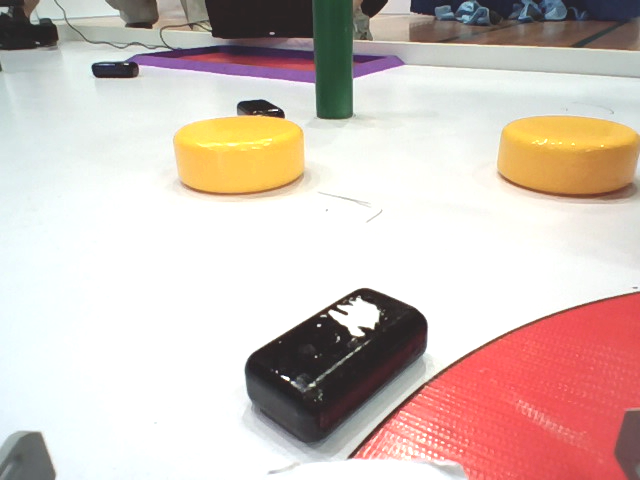black: (214, 275, 454, 435), (223, 89, 294, 139), (78, 58, 141, 92)
kuang: (127, 35, 409, 90)
yellow: (473, 106, 640, 215), (167, 116, 321, 203)
zhuzi: (301, 1, 364, 125)
